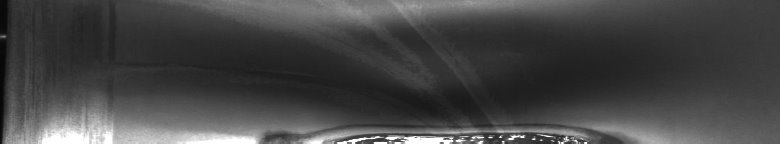ke: (16, 4, 673, 136)
